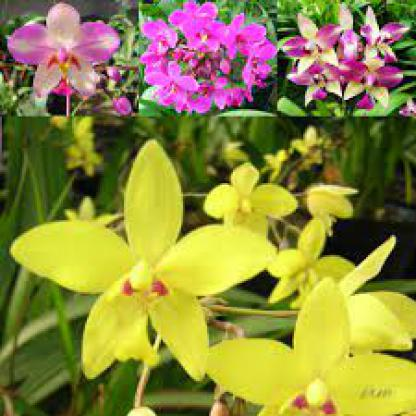ANGGREK: (34, 123, 406, 406)
